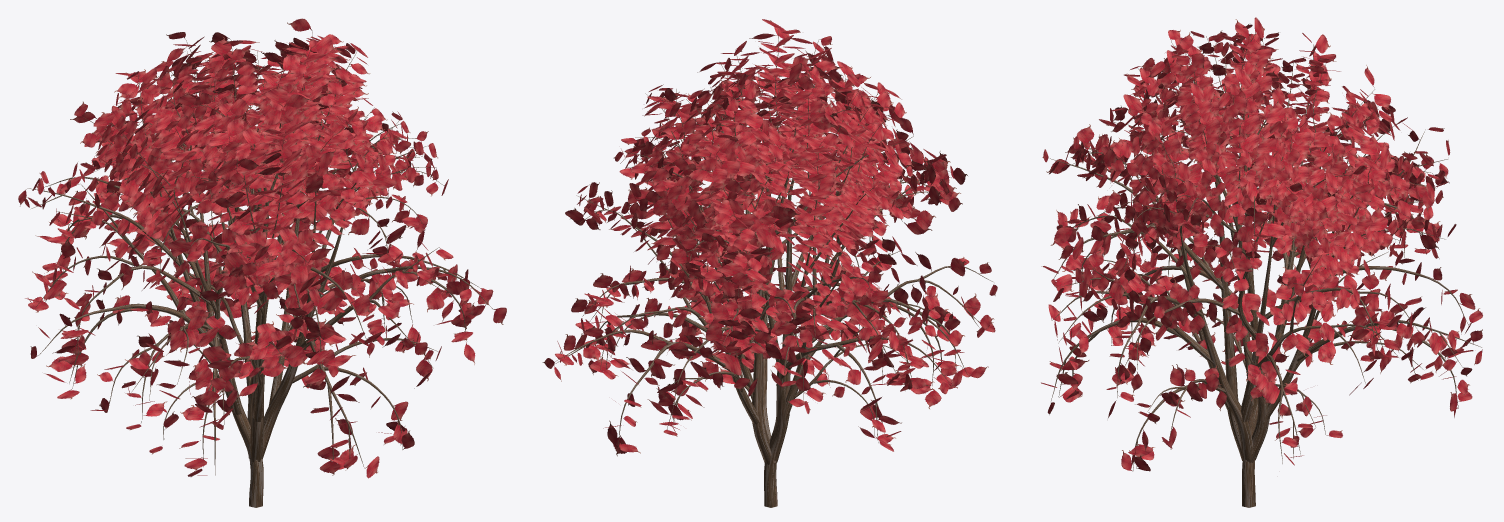
The model's file is Amazonie_Arbre_26.fbx.
The picture shows the model from 3 angles, left to right: view 1: azimuth 30°, elevation 25°; view 2: azimuth 150°, elevation 25°; view 3: azimuth 270°, elevation 25°; orthographic projection. The views are drawn at different scales.
Parts seen in each view (by area): view 1: Plane.001, tree; view 2: Plane.001, tree; view 3: Plane.001, tree.
Boxes of the visible parts, x1=… form: Plane.001: x1=18, y1=18, x2=506, y2=478; tree: x1=27, y1=31, x2=492, y2=507; Plane.001: x1=542, y1=19, x2=997, y2=456; tree: x1=554, y1=29, x2=992, y2=507; Plane.001: x1=1041, y1=17, x2=1482, y2=471; tree: x1=1050, y1=34, x2=1481, y2=507.
Bounding box in the file's own units: 557 × 661 × 578.
